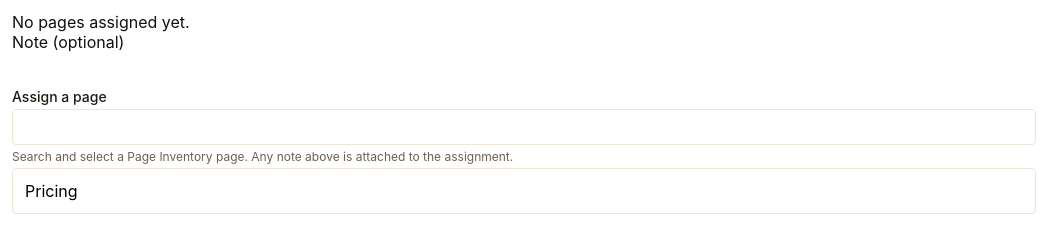
Test: KeywordPageAssignmentsSection › assigns a page — attaches whatever note is currently typed to the assignment
The image size is (1048, 231).
Type "landing page for this keyword" into the field labelled "Note (optional)" at (204, 70), box [12,52,396,88]
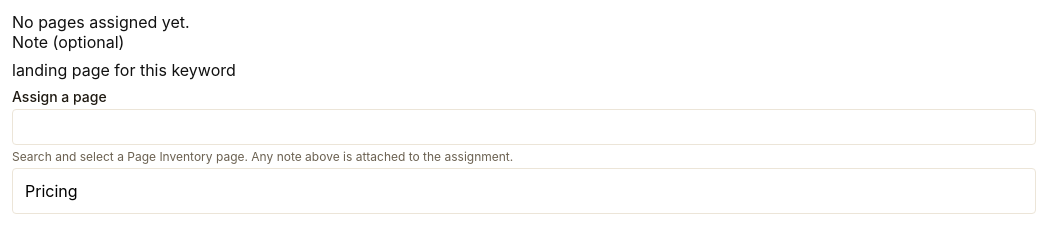
Type "Pricing" into the dropdown labelled "Assign a page" at (524, 127), box [12,109,1036,145]
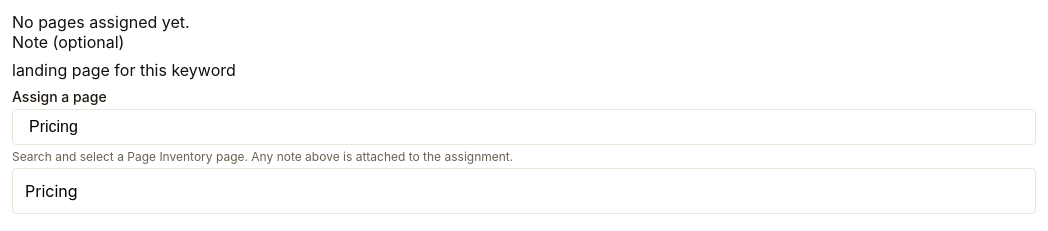
Click the button "Pricing" at (51, 191), box [17,173,1031,209]
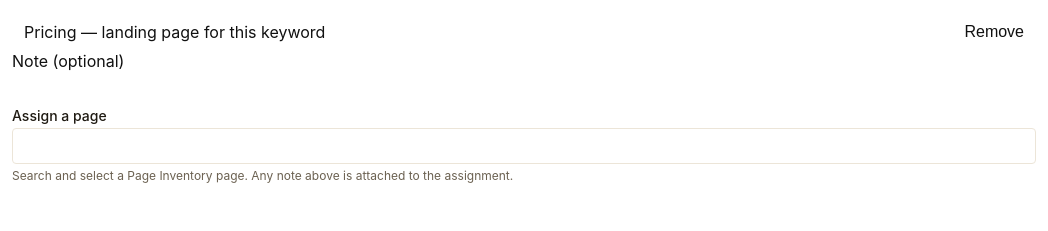
Check: the text "— landing page for this keyword" is shown, box [77,22,325,42]
Check: the field labelled "Note (optional)" is empty, box [12,71,396,107]
